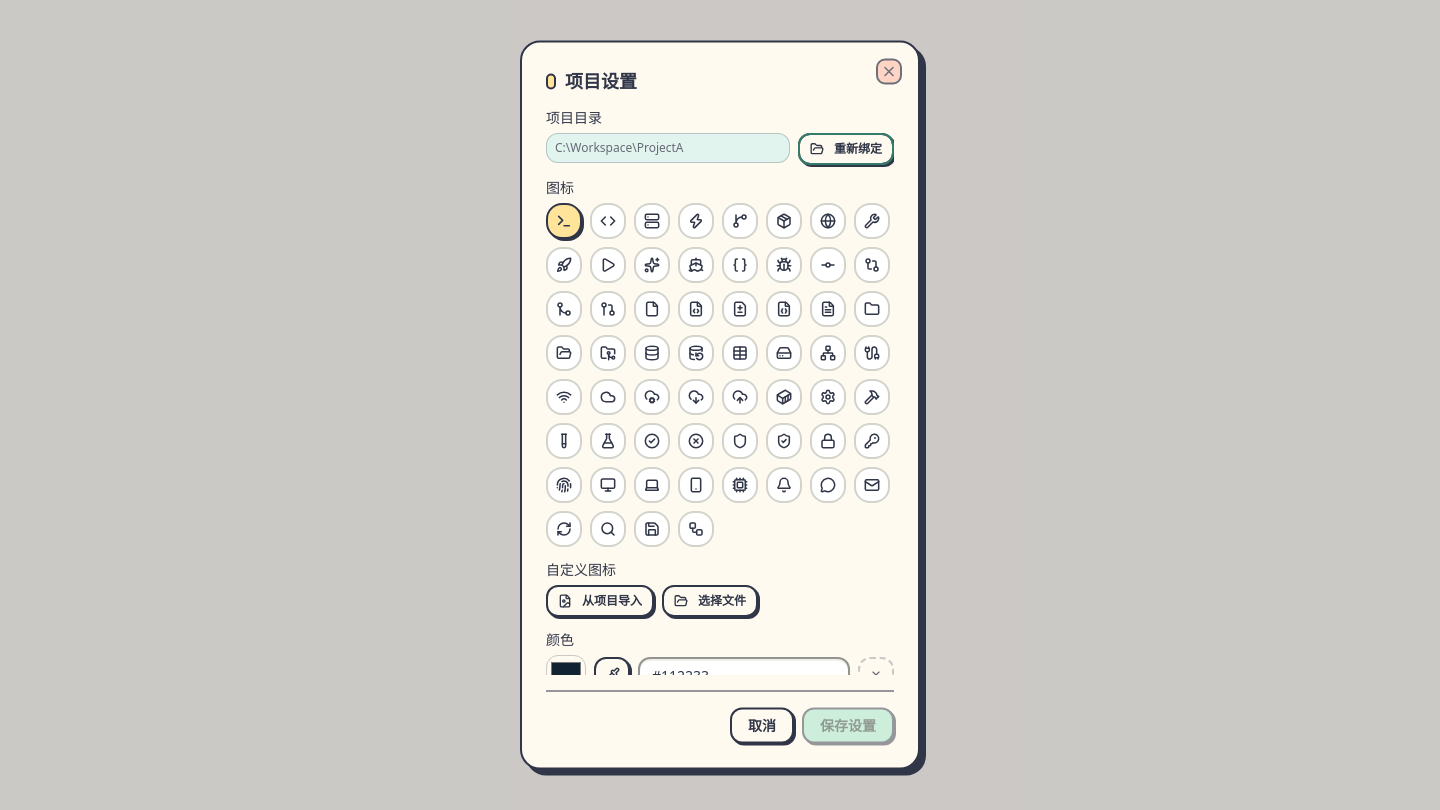
Test: ProjectSettingsDialog custom icon picker › does not show an empty result before scanning, then reports an empty scan
The width and height of the screenshot is (1440, 810).
Expected: the text "未找到可用图标" is not shown
Click the button with aria-label "从项目目录导入图标" at coordinates (600, 600), box x1=546 y1=584 x2=654 y2=616
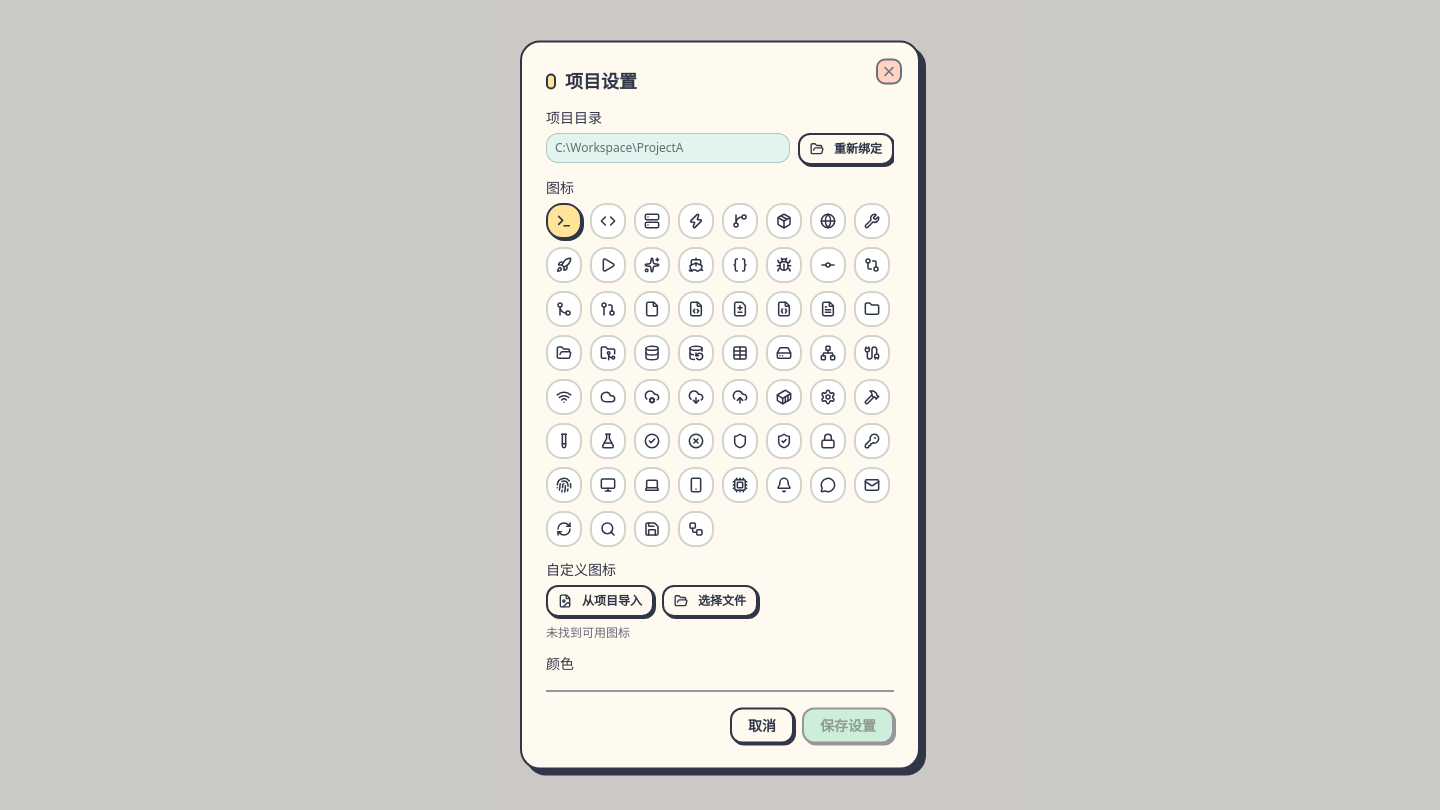
Expected: the text "未找到可用图标" is shown, x1=546 y1=624 x2=630 y2=640
